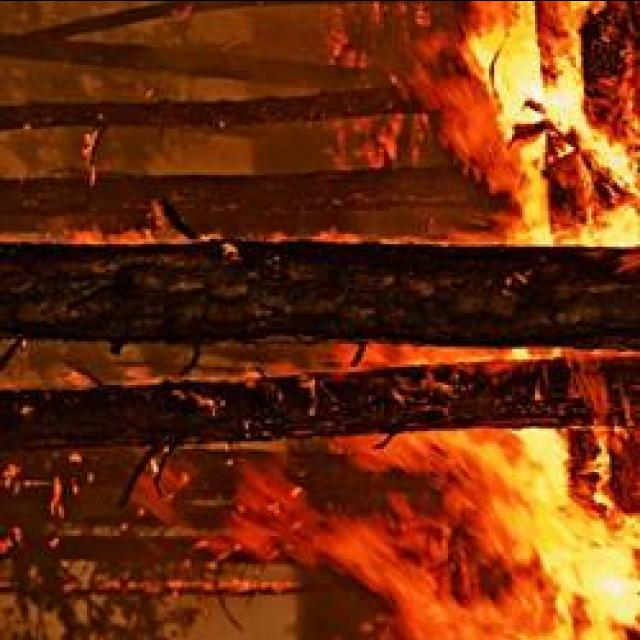fire: (537, 525, 640, 640), (412, 597, 526, 638), (504, 435, 558, 510), (498, 22, 542, 90), (451, 88, 492, 138), (393, 554, 448, 586), (458, 472, 496, 518), (590, 215, 636, 243), (526, 182, 546, 236), (345, 534, 377, 566), (552, 74, 578, 113), (509, 514, 532, 556), (493, 157, 518, 190), (604, 148, 621, 167), (506, 93, 522, 111)
smoke: (231, 132, 309, 167), (244, 601, 298, 638), (552, 5, 578, 60), (220, 30, 300, 46)
